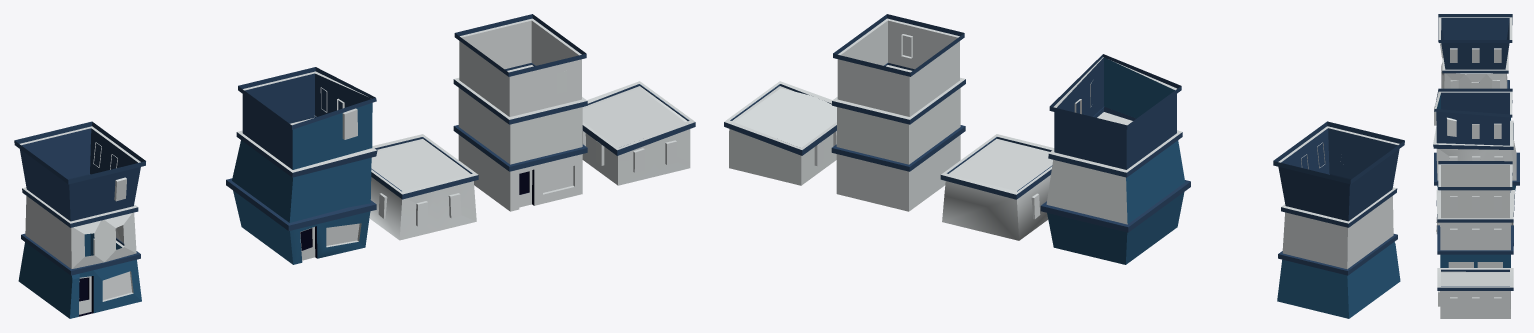
Rendered from buildingsFINAL.fbx.
3 views of the same model, side by side, from view 1: azimuth 30°, elevation 25°; view 2: azimuth 150°, elevation 25°; view 3: azimuth 270°, elevation 25° (orthographic). The views are drawn at different scales.
Visible parts, largest first — view 1: Cube.013, Cube.024, Cube.000, Cube.025, Cube.026, Cube.032, Cube.030, Cube.029; view 2: Cube.013, Cube.024, Cube.000, Cube.025, Cube.026; view 3: Cube.024, Cube.013, Cube.000, Cube.026, Cube.031, Cube.029, Cube.007, Cube.032, Cube.025.
Part boxes in pixels (bbox=[...]): Cube.013: bbox=[226, 67, 377, 264]; Cube.024: bbox=[453, 14, 587, 211]; Cube.000: bbox=[14, 121, 145, 318]; Cube.025: bbox=[369, 134, 478, 240]; Cube.026: bbox=[582, 81, 695, 185]; Cube.032: bbox=[582, 131, 676, 172]; Cube.030: bbox=[378, 193, 461, 226]; Cube.029: bbox=[320, 87, 357, 139]; Cube.013: bbox=[1040, 54, 1190, 264]; Cube.024: bbox=[831, 14, 965, 211]; Cube.000: bbox=[1273, 121, 1404, 318]; Cube.025: bbox=[940, 134, 1054, 240]; Cube.026: bbox=[724, 81, 836, 185]; Cube.024: bbox=[1437, 161, 1513, 267]; Cube.013: bbox=[1433, 88, 1519, 190]; Cube.000: bbox=[1438, 14, 1512, 120]; Cube.026: bbox=[1437, 268, 1513, 318]; Cube.031: bbox=[1450, 196, 1501, 244]; Cube.029: bbox=[1434, 105, 1503, 160]; Cube.007: bbox=[1439, 43, 1501, 88]; Cube.032: bbox=[1438, 291, 1501, 312]; Cube.025: bbox=[1436, 190, 1514, 225].
Size of the model in its own units: 4390 by 1014 by 771.
